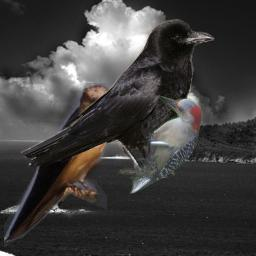Crow: (20, 19, 215, 178)
Swallow: (4, 83, 114, 247)
Woodpecker: (129, 96, 201, 196)
